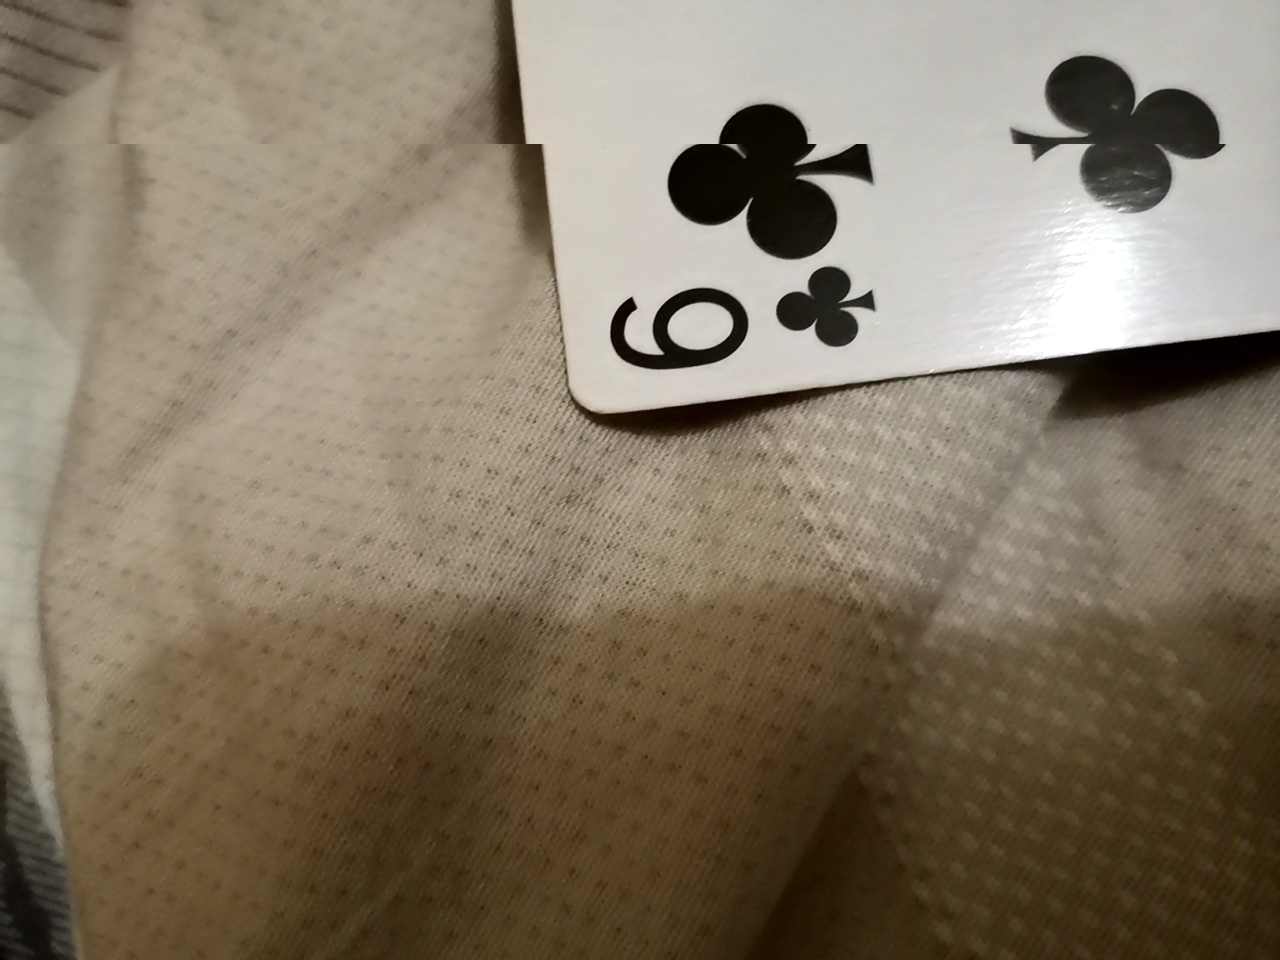mh 6: (490, 4, 1266, 442)
